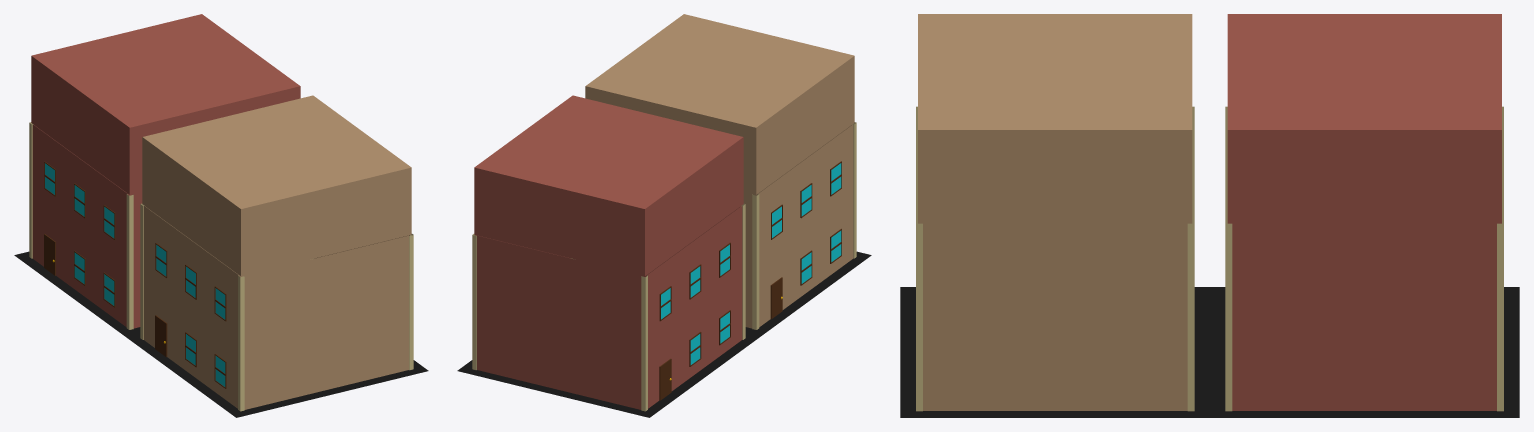
File: Buildings5.fbx
3 renders of one model, left to right at view 1: azimuth 30°, elevation 25°; view 2: azimuth 150°, elevation 25°; view 3: azimuth 270°, elevation 25°, orthographic. The views are drawn at different scales.
Visible parts, largest first — view 1: Buildings 2.002; view 2: Buildings 2.002; view 3: Buildings 2.002.
Part boxes in pixels (box(x1,y1,x2,y2)): Buildings 2.002: box(14, 14, 428, 417); Buildings 2.002: box(457, 14, 871, 417); Buildings 2.002: box(900, 14, 1519, 417).
Bounding box in the file's own units: 3000 × 1500 × 1500.
